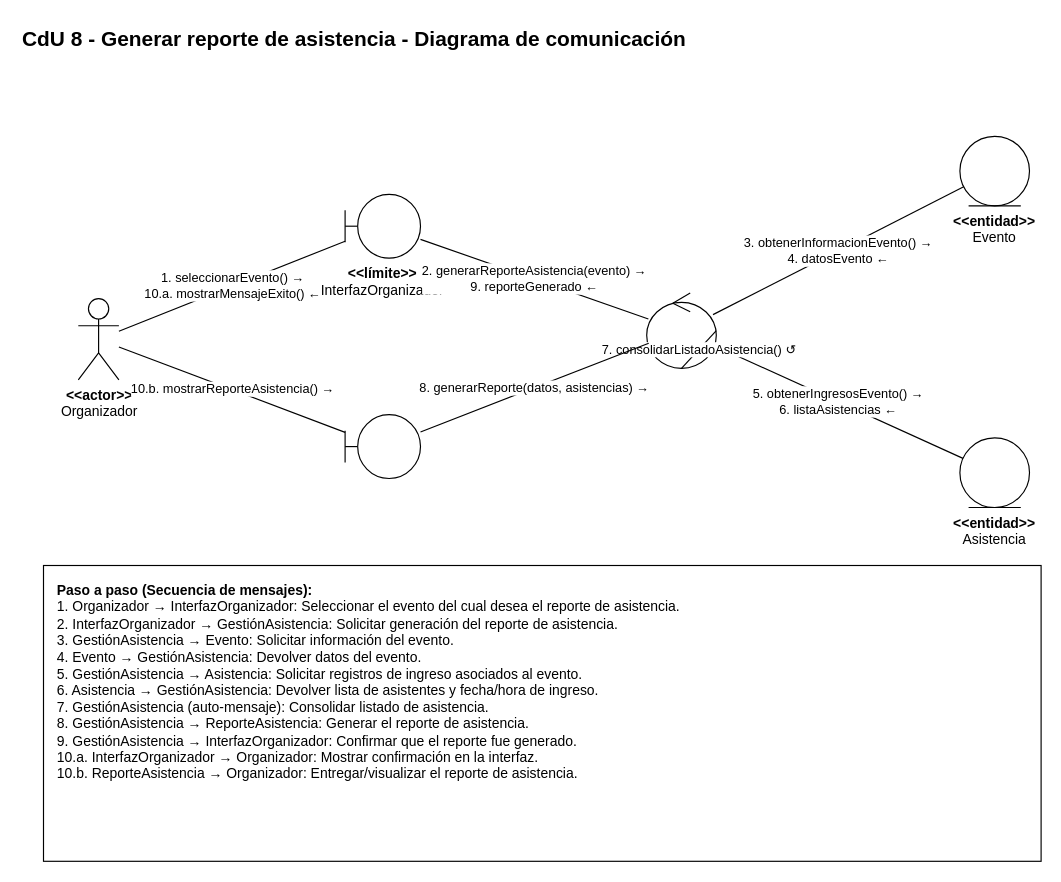
This 1061x882 diagram has some shape labels left out. The shapes that lost their labels are listed below. From the top down, each one's centre as x and y in pixels, then its label:
[681,330]: <<control>> GestiónAsistencia
[382,446]: <<límite>> ReporteAsistencia
